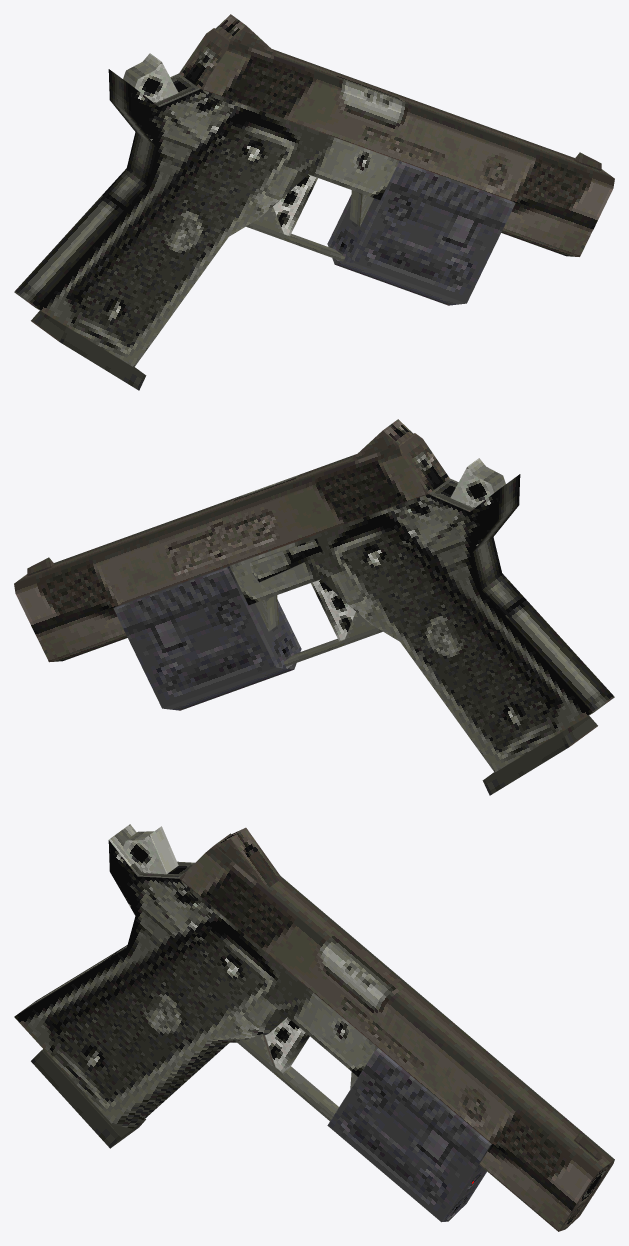
Rendered from ps2_save-icons_winback2projectposeidon.glb.
3 renders of one model, top to bottom at view 1: azimuth 30°, elevation 25°; view 2: azimuth 150°, elevation 25°; view 3: azimuth 330°, elevation 25°, orthographic.
Visible parts, largest first — view 1: wb2_icon.ico; view 2: wb2_icon.ico; view 3: wb2_icon.ico.
Part boxes in pixels (left/top/right/bottom): wb2_icon.ico: left=14, top=14, right=614, bottom=390; wb2_icon.ico: left=14, top=419, right=614, bottom=795; wb2_icon.ico: left=14, top=824, right=614, bottom=1231.
Bounding box in the file's own units: 4.73 × 2.62 × 0.4075.
Materials: 1 (1 with a texture image).
